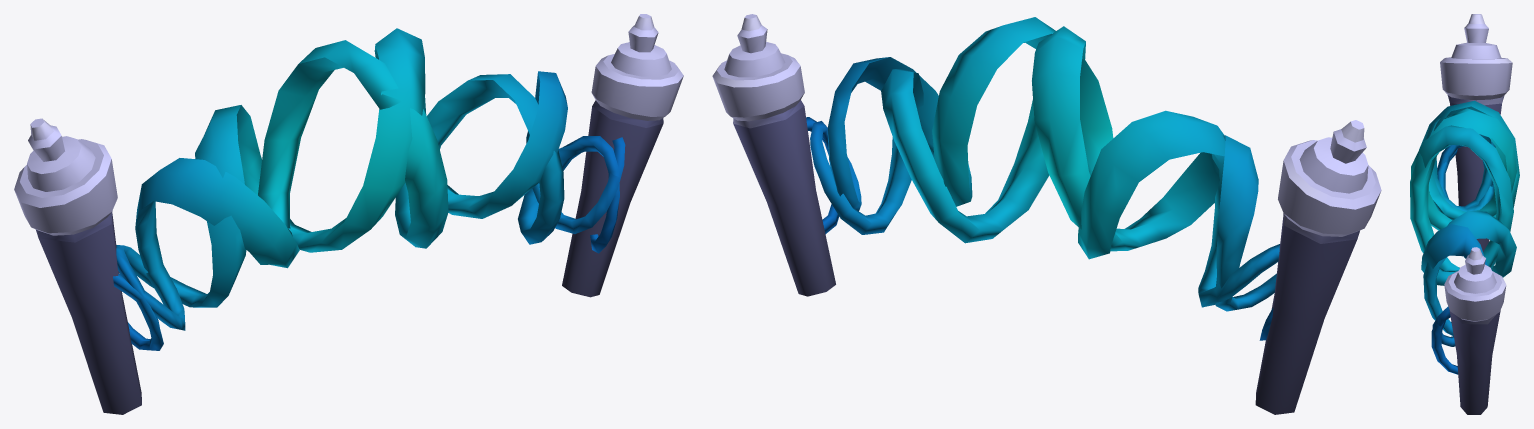
Rendered from SM_Energy_Wire_02.fbx.
3 views of the same model, side by side, from view 1: azimuth 30°, elevation 25°; view 2: azimuth 150°, elevation 25°; view 3: azimuth 270°, elevation 25° (orthographic). The views are drawn at different scales.
Visible parts, largest first — view 1: SM_Energy_Wire_02; view 2: SM_Energy_Wire_02; view 3: SM_Energy_Wire_02.
Boxes of the visible parts, x1=… form: SM_Energy_Wire_02: x1=14, y1=14, x2=683, y2=414; SM_Energy_Wire_02: x1=712, y1=14, x2=1381, y2=414; SM_Energy_Wire_02: x1=1410, y1=14, x2=1519, y2=414.
Size of the model in its own units: 4.75 by 2.19 by 0.9882.
